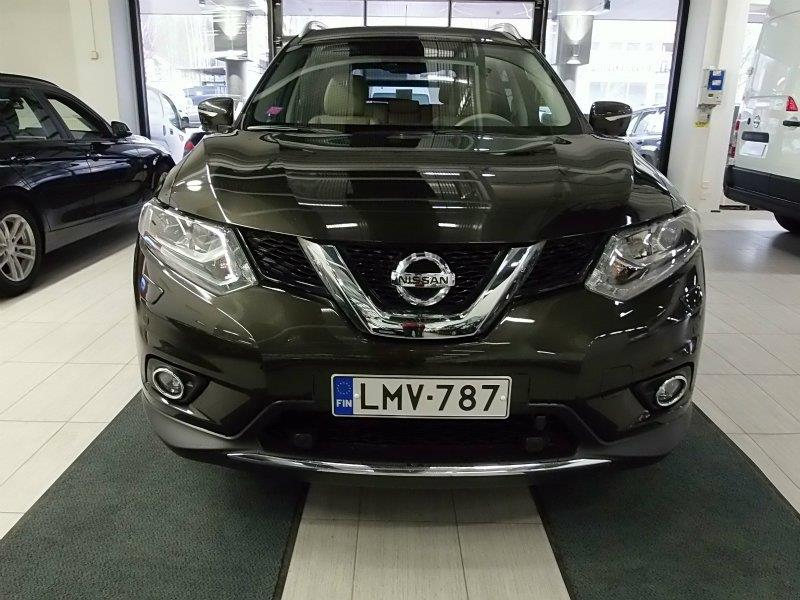license: (332, 369, 514, 424)
